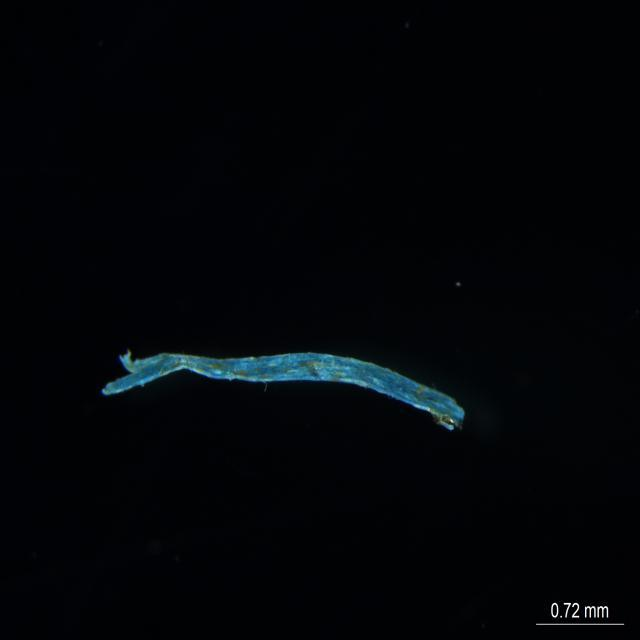fibers: (101, 336, 469, 431)
